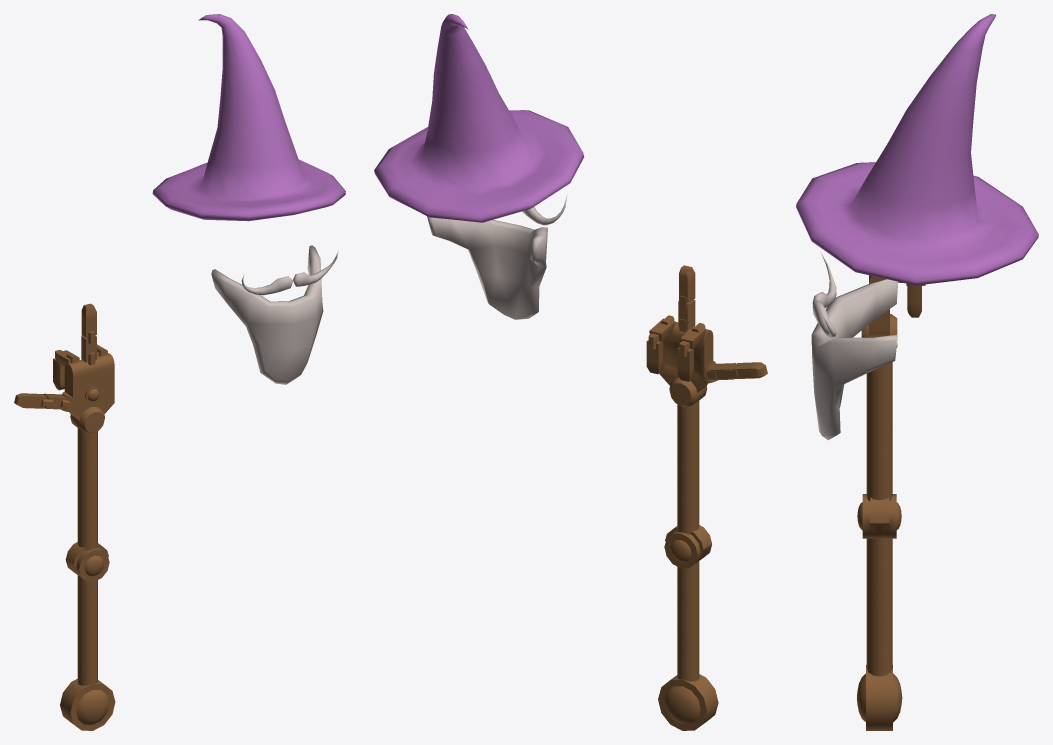
The model's file is Wizard.FBX.
The picture shows the model from 3 angles, left to right: view 1: azimuth 30°, elevation 25°; view 2: azimuth 150°, elevation 25°; view 3: azimuth 270°, elevation 25°; orthographic projection. The views are drawn at different scales.
Visible parts, largest first — view 1: Hat, Staff, Beard; view 2: Hat, Staff, Beard; view 3: Hat, Staff, Beard.
Boxes of the visible parts, bbox=[...] form: Hat: bbox=[152, 14, 345, 221]; Staff: bbox=[14, 303, 115, 730]; Beard: bbox=[211, 245, 338, 384]; Hat: bbox=[374, 14, 583, 222]; Staff: bbox=[646, 265, 767, 730]; Beard: bbox=[427, 194, 567, 319]; Hat: bbox=[796, 14, 1038, 285]; Staff: bbox=[857, 275, 925, 730]; Beard: bbox=[811, 253, 898, 440].
Size of the model in its own units: 113 by 208 by 56.1.
Materials: 1 (1 with a texture image).
